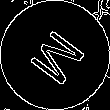M_SE: (21, 21, 89, 89)
